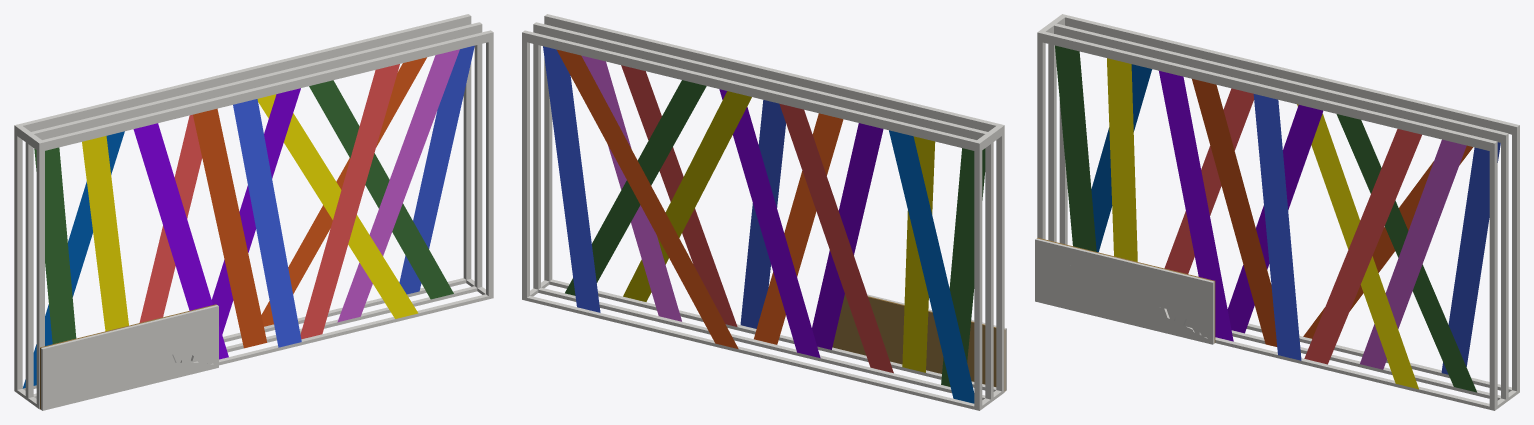
Rendered from MudRoad_Sculpture01.fbx.
3 renders of one model, left to right at view 1: azimuth 30°, elevation 25°; view 2: azimuth 150°, elevation 25°; view 3: azimuth 330°, elevation 25°, orthographic.
Parts seen in each view (by area): view 1: ArtSculpture; view 2: ArtSculpture; view 3: ArtSculpture.
Boxes of the visible parts, box(x1,y1,x2,y2) form: ArtSculpture: box(14, 14, 493, 410); ArtSculpture: box(522, 14, 1006, 410); ArtSculpture: box(1035, 14, 1519, 410).
Bounding box in the file's own units: 756 × 80.84 × 423.
